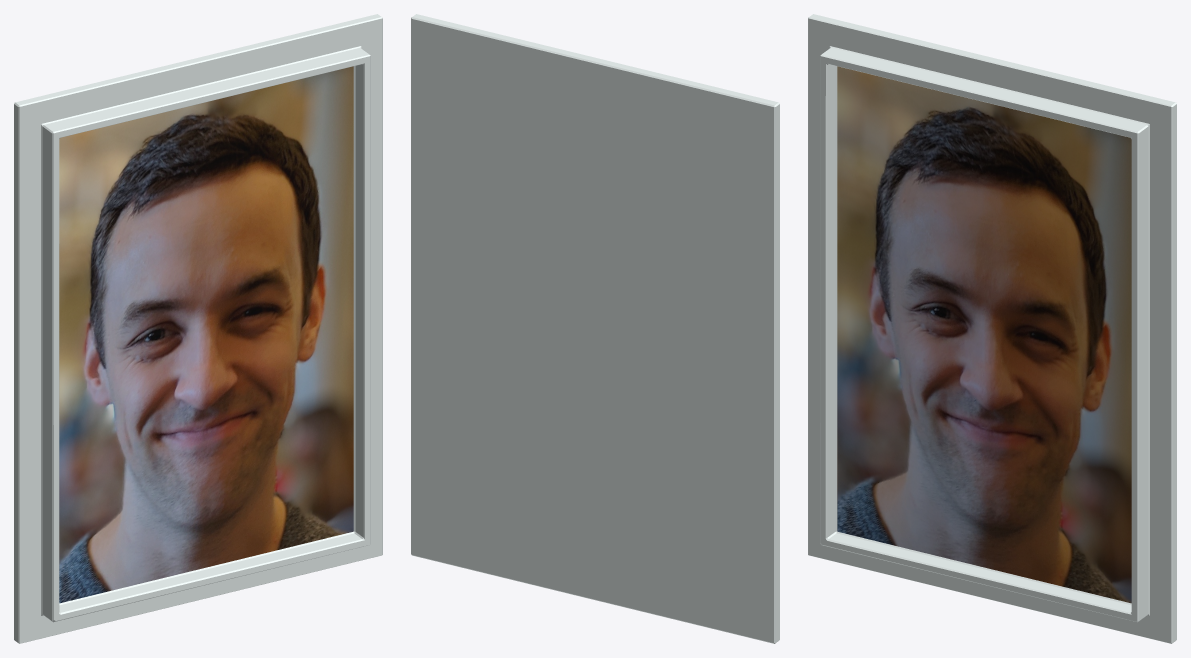
Rendered from aws_PortraitB_01_visual.DAE.
3 views of the same model, side by side, from view 1: azimuth 30°, elevation 25°; view 2: azimuth 150°, elevation 25°; view 3: azimuth 330°, elevation 25° (orthographic).
Parts seen in each view (by area): view 1: aws_PortraitB_01_visual; view 2: aws_PortraitB_01_visual; view 3: aws_PortraitB_01_visual.
Part boxes in pixels (x1=…): aws_PortraitB_01_visual: x1=14, y1=14, x2=382, y2=643; aws_PortraitB_01_visual: x1=411, y1=14, x2=779, y2=643; aws_PortraitB_01_visual: x1=808, y1=14, x2=1176, y2=643.
Size of the model in its own units: 49.04 by 3.83 by 69.18.
2 materials, 2 textured.
